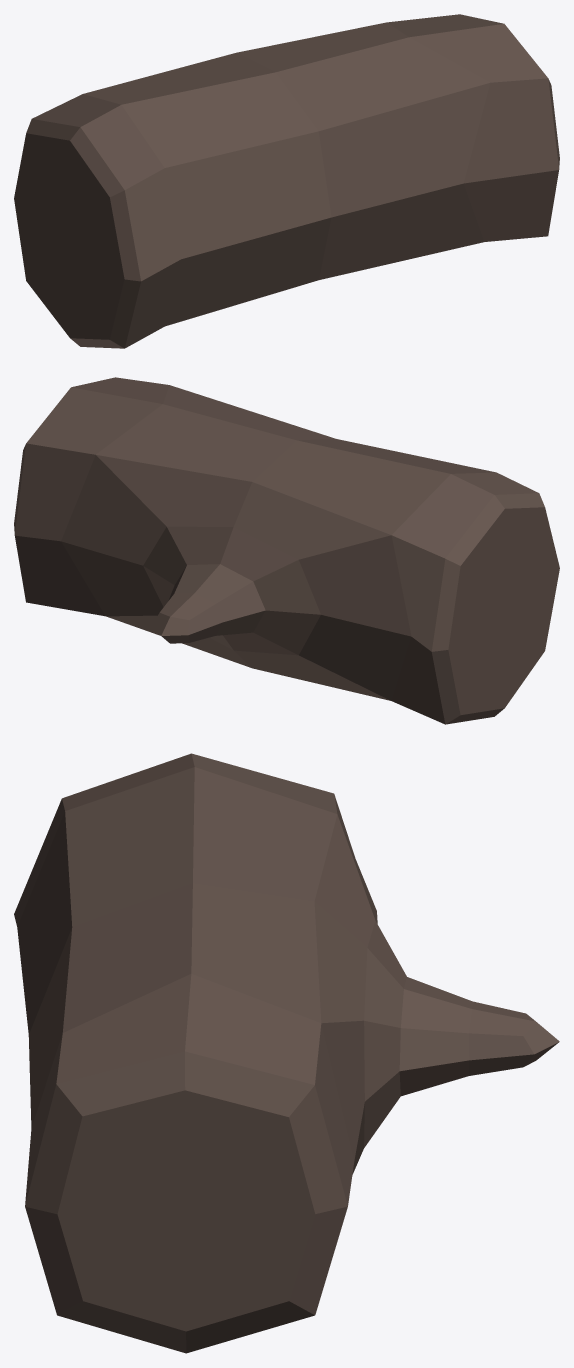
Rendered from mod_obj_fallenLog_segment.fbx.
The picture shows the model from 3 angles, top to bottom: view 1: azimuth 30°, elevation 25°; view 2: azimuth 150°, elevation 25°; view 3: azimuth 270°, elevation 25°; orthographic projection. The views are drawn at different scales.
Visible parts, largest first — view 1: mesh_obj_fallenTree; view 2: mesh_obj_fallenTree; view 3: mesh_obj_fallenTree.
Part boxes in pixels (x1=…): mesh_obj_fallenTree: x1=14, y1=14, x2=559, y2=348; mesh_obj_fallenTree: x1=14, y1=377, x2=559, y2=724; mesh_obj_fallenTree: x1=14, y1=753, x2=559, y2=1353.
Size of the model in its own units: 336 by 167 by 245.
